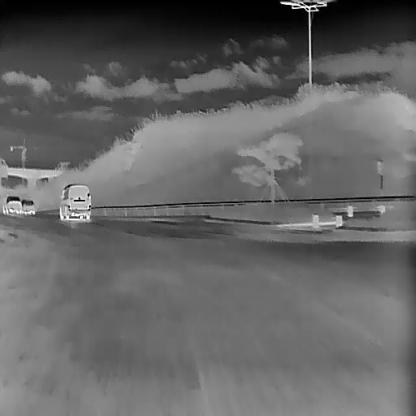car: (59, 182, 91, 220), (2, 195, 20, 215), (21, 198, 34, 214)
